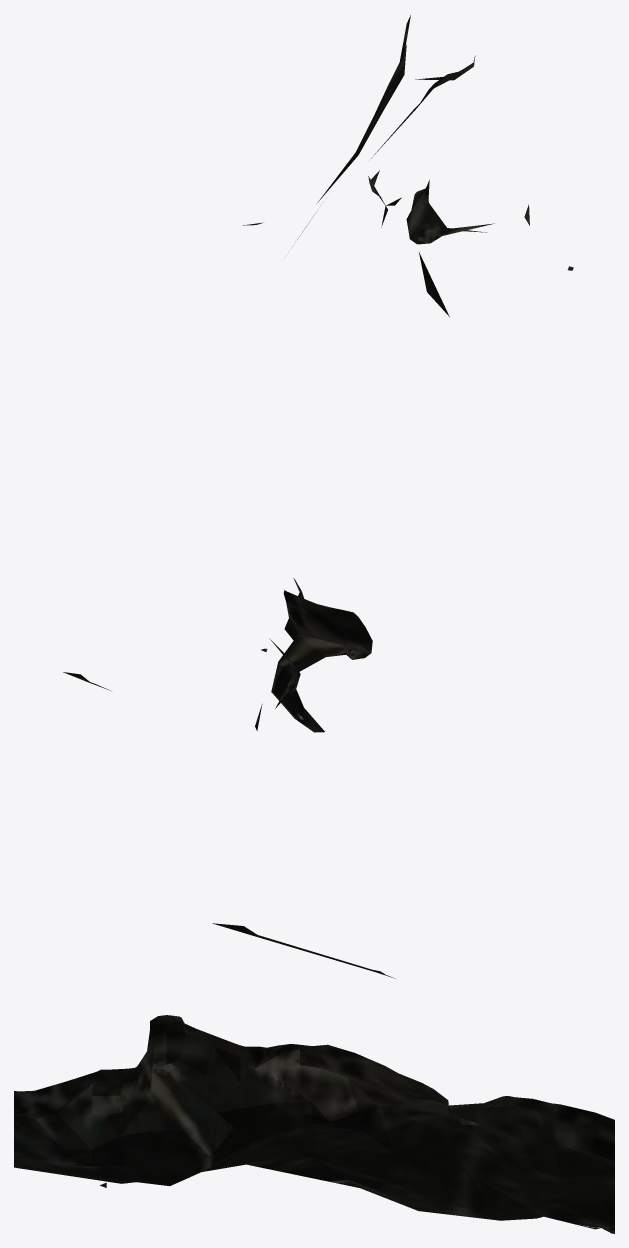
3 renders of one model, top to bottom at view 1: azimuth 30°, elevation 25°; view 2: azimuth 150°, elevation 25°; view 3: azimuth 270°, elevation 25°, orthographic. The views are drawn at different scales.
Size of the model in its own units: 0.7711 by 0.4536 by 0.8374.
3 materials, 3 textured.
